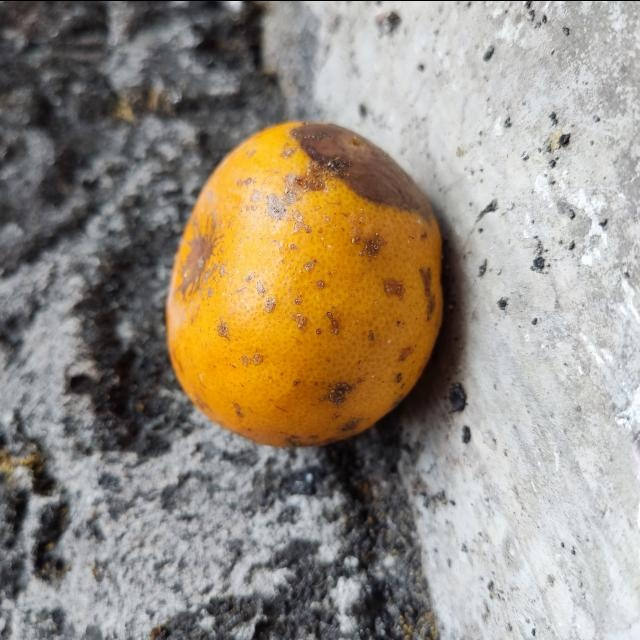agrume: (164, 116, 454, 448)
